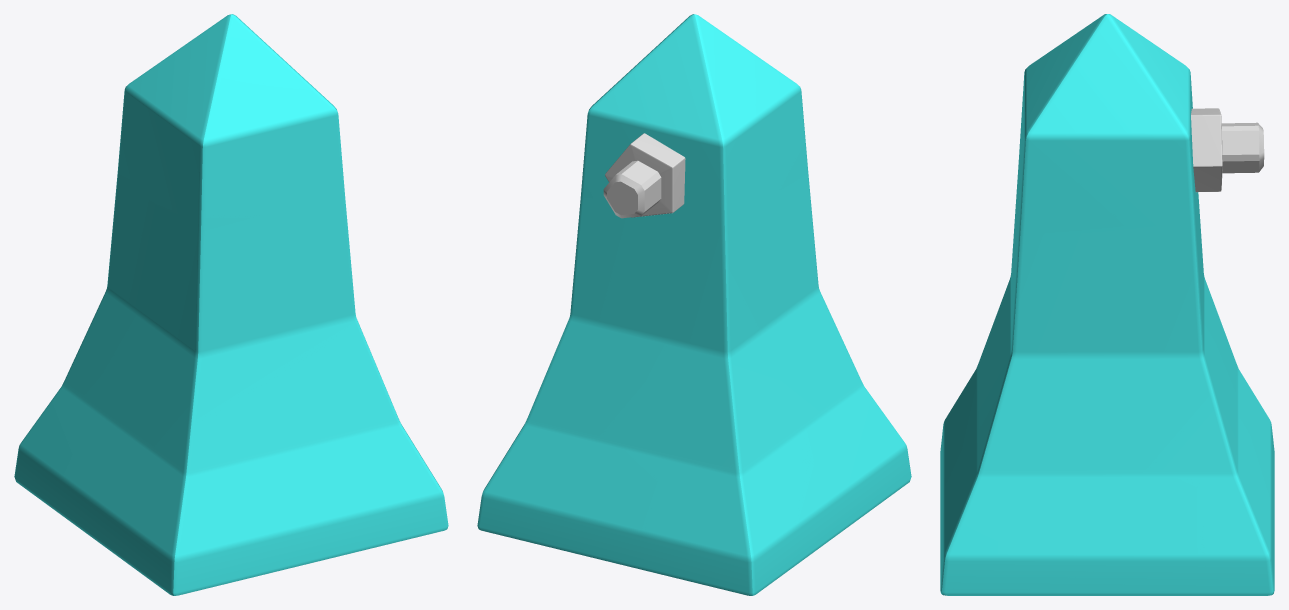
File: wind.obj
3 renders of one model, left to right at view 1: azimuth 30°, elevation 25°; view 2: azimuth 150°, elevation 25°; view 3: azimuth 270°, elevation 25°, orthographic. The views are drawn at different scales.
Visible parts, largest first — view 1: pCylinder1 wind; view 2: pCylinder1 wind, wind pCylinder2, wind pCylinder3; view 3: pCylinder1 wind, wind pCylinder2, wind pCylinder3.
Boxes of the visible parts, x1,y1,x2,y2 form: pCylinder1 wind: (14,14,448,595); pCylinder1 wind: (477,14,911,595); wind pCylinder2: (605,133,685,217); wind pCylinder3: (603,160,661,218); pCylinder1 wind: (940,14,1274,595); wind pCylinder2: (1191,108,1222,192); wind pCylinder3: (1221,122,1264,173).
Size of the model in its own units: 4.92 by 8.33 by 4.92.
